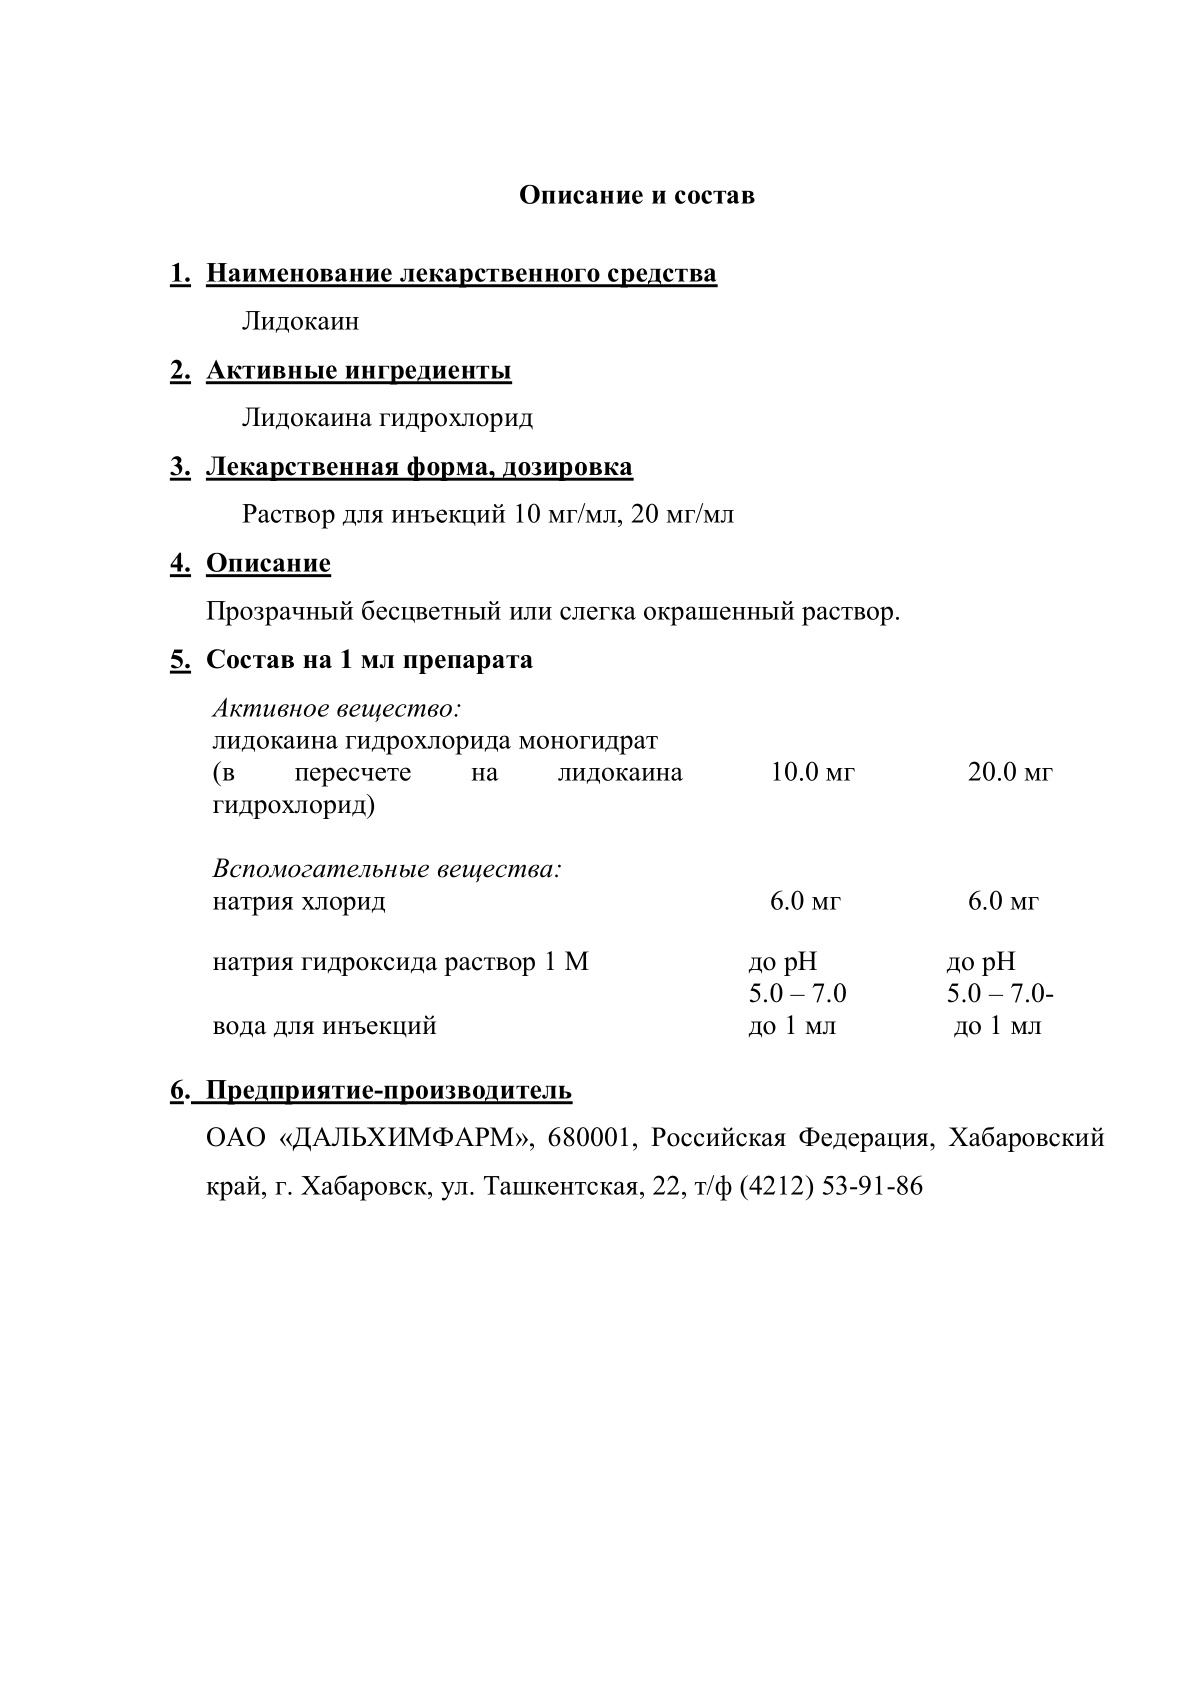nolines: (209, 698, 1056, 1036)
